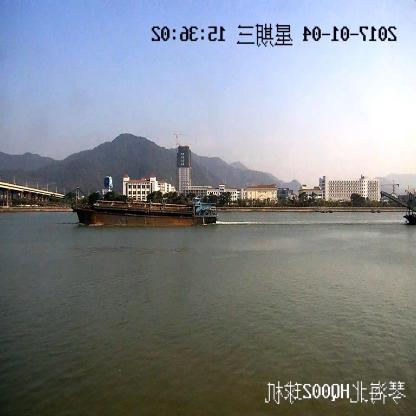Bulk Carrier: (74, 199, 217, 225)
